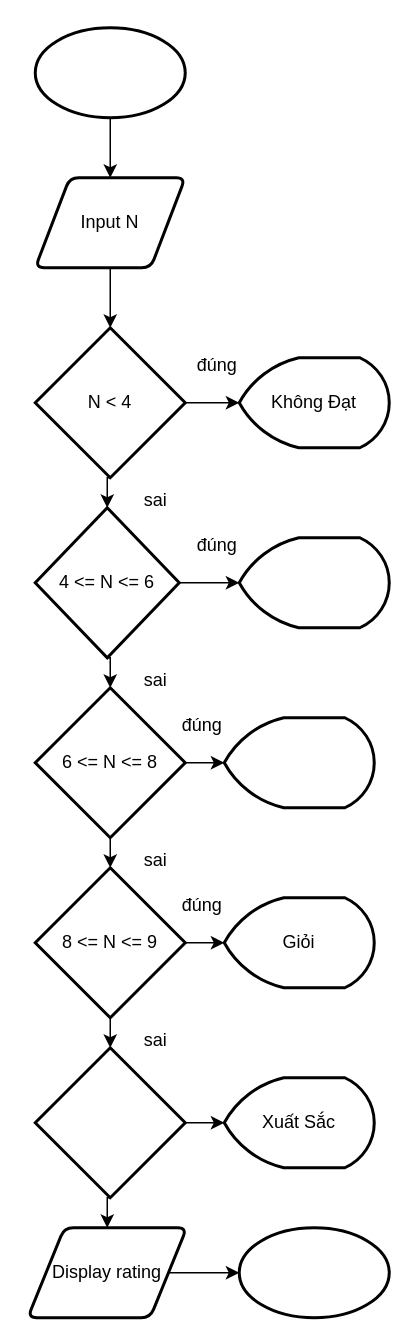
Some shapes in this 416 by 1344 pixel diagram are drawn without their labels. Each missing label, with the centre of its shape:
"End" goes at point 313,1272.
"Khá" goes at point 298,762.
"N = 10" goes at point 109,1122.
"Start" goes at point 109,72.
"Trung Bình" goes at point 313,582.
